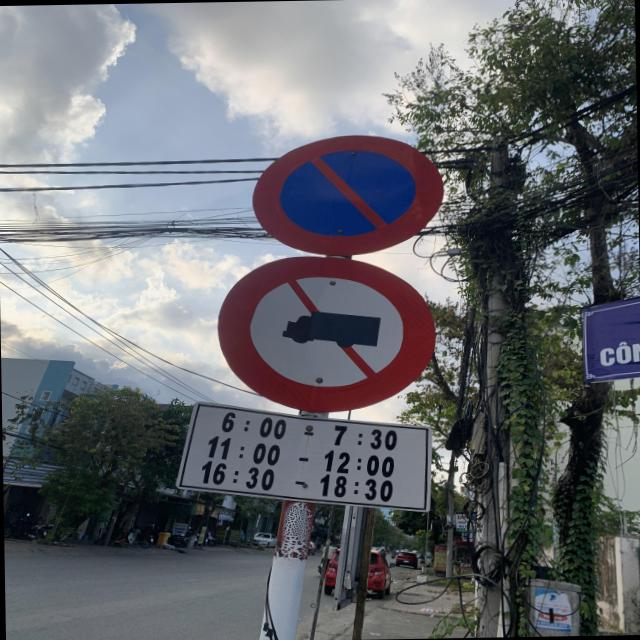Cam_Dau_Xe: (251, 133, 448, 256)
Cam_Xe_Tai: (213, 252, 440, 415)
